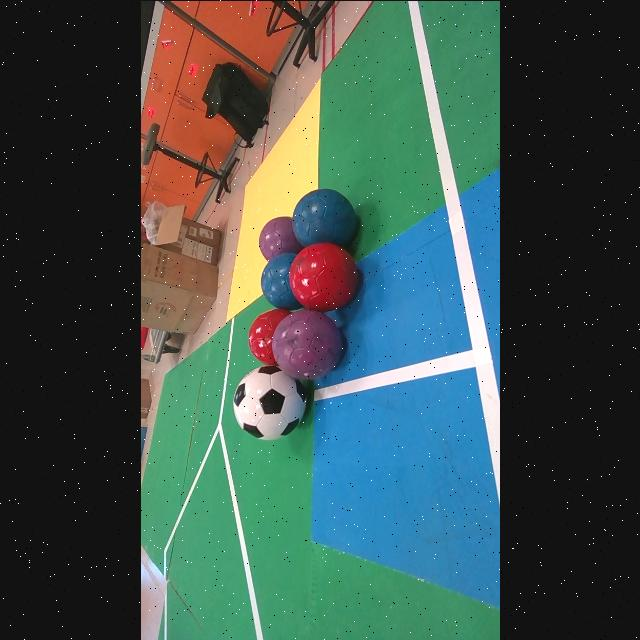B: (291, 188, 357, 246), (260, 252, 301, 310)
P: (272, 309, 341, 379), (258, 216, 303, 261)
R: (288, 242, 358, 311), (247, 309, 289, 365)
